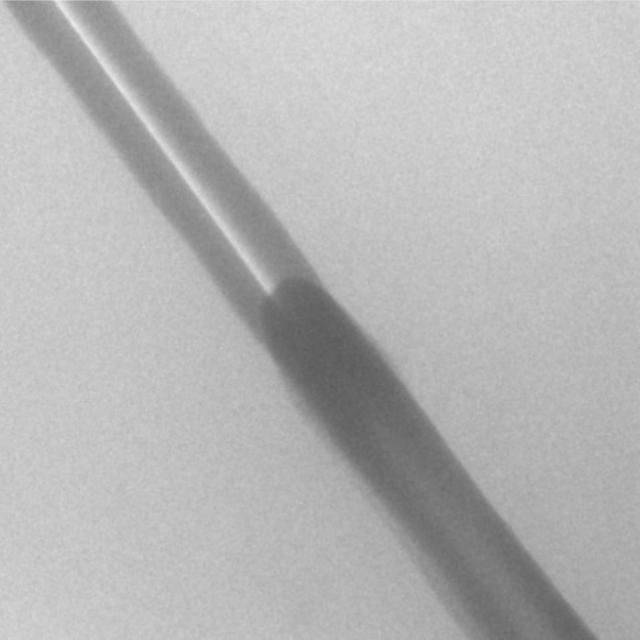broken arc: (58, 0, 272, 292)
